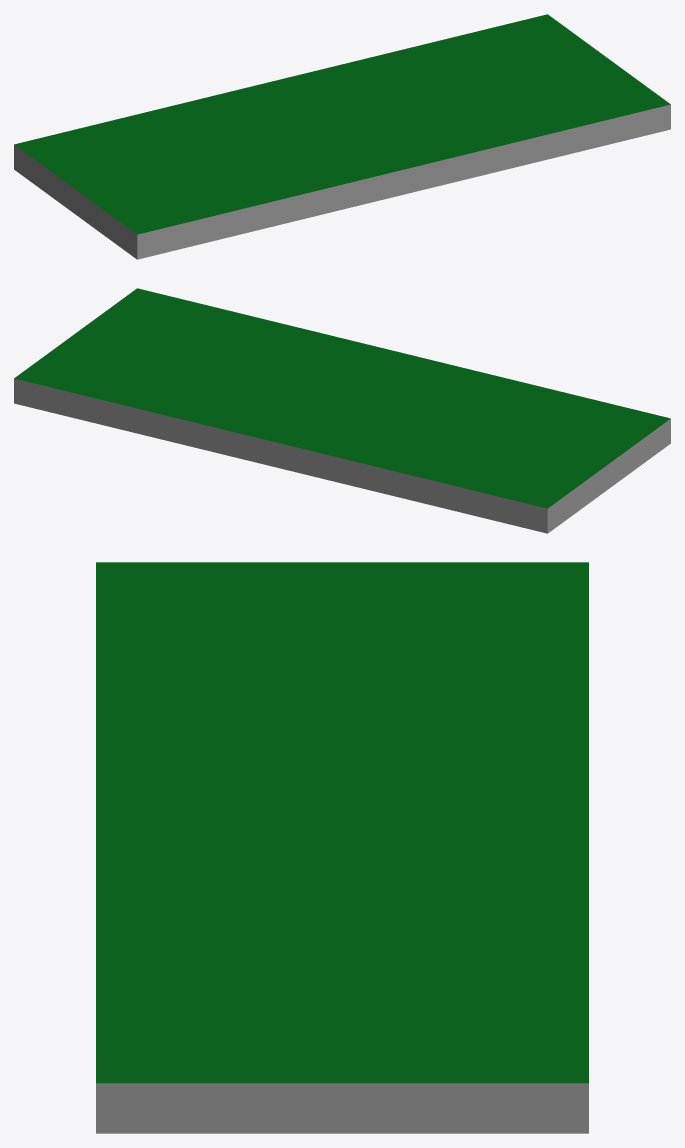
The model's file is Stairs_Floor_03_Snaps014.fbx.
3 views of the same model, one above another, from view 1: azimuth 30°, elevation 25°; view 2: azimuth 150°, elevation 25°; view 3: azimuth 270°, elevation 25° (orthographic). The views are drawn at different scales.
Parts seen in each view (by area): view 1: Stairs_Floor_03_LOD00; view 2: Stairs_Floor_03_LOD00; view 3: Stairs_Floor_03_LOD00.
Part boxes in pixels (box(x1,y1,x2,y2)): Stairs_Floor_03_LOD00: box(14, 14, 670, 259); Stairs_Floor_03_LOD00: box(14, 288, 670, 533); Stairs_Floor_03_LOD00: box(96, 562, 588, 1133).
Size of what is drawn, in the model's own units: 600 by 26.91 by 240.
